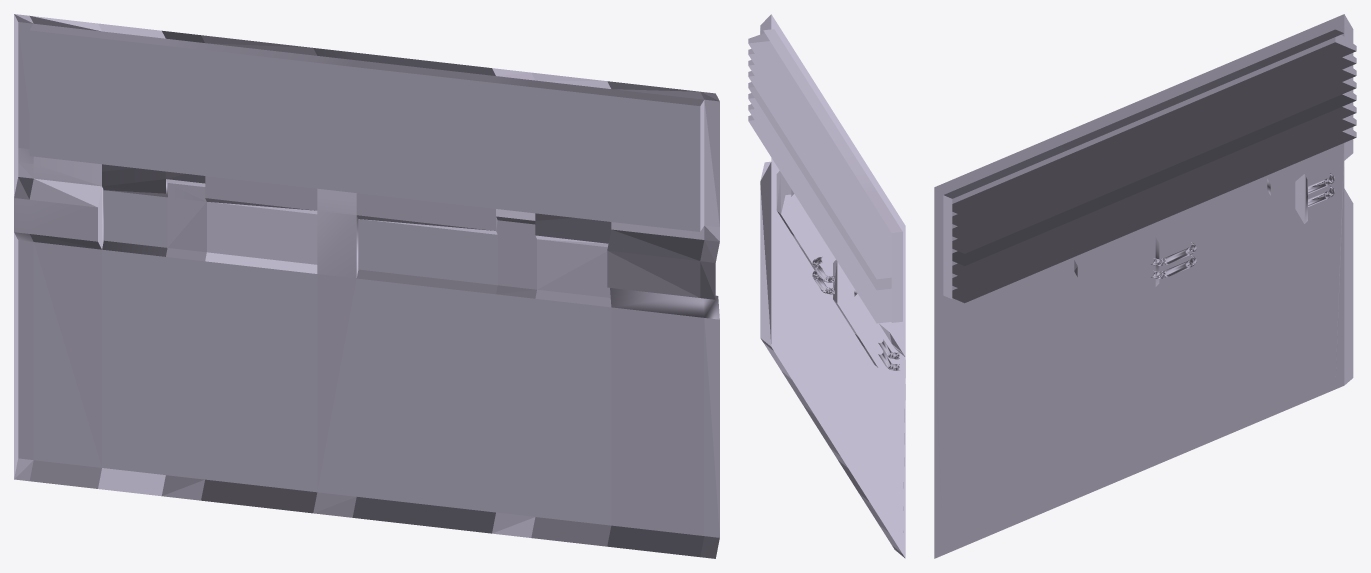
File: uee_stanton_kit_ext_wall_0x8x8_45d_05_reg.glb
3 renders of one model, left to right at view 1: azimuth 30°, elevation 25°; view 2: azimuth 150°, elevation 25°; view 3: azimuth 270°, elevation 25°, orthographic. The views are drawn at different scales.
Bounding box in the file's own units: 8.24 × 8 × 8.24.
